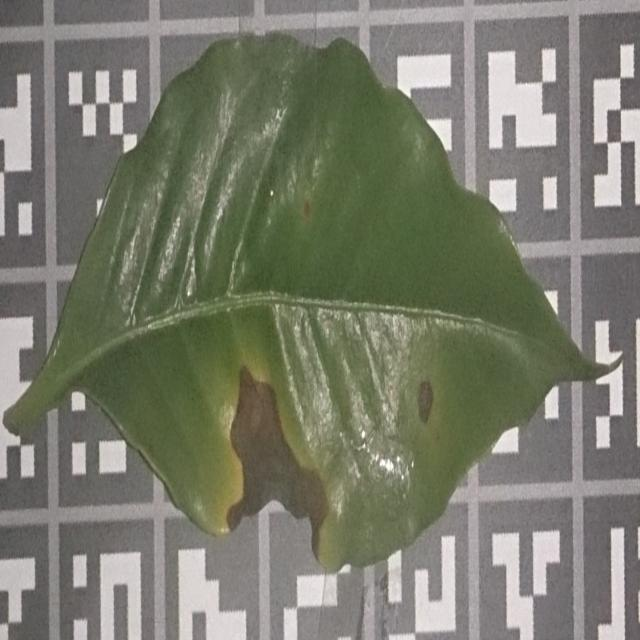Enfermedad-Mancha-de-hierro: (2, 33, 616, 576)
